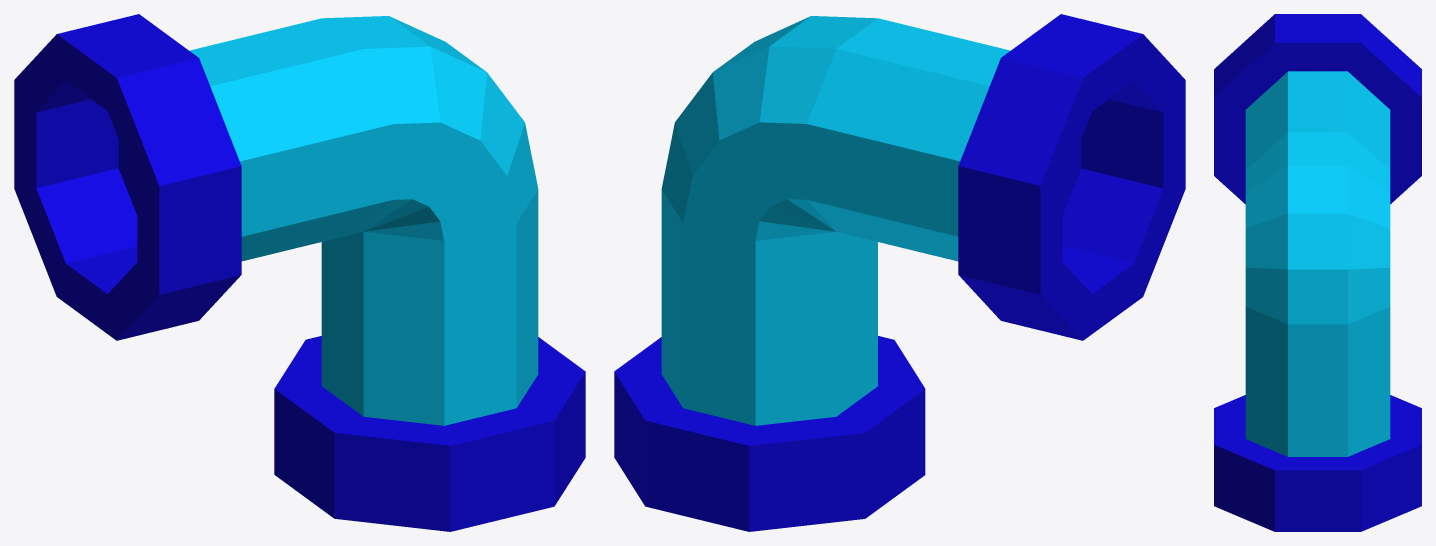
File: pipes 3.0.fbx
3 renders of one model, left to right at view 1: azimuth 30°, elevation 25°; view 2: azimuth 150°, elevation 25°; view 3: azimuth 270°, elevation 25°, orthographic. The views are drawn at different scales.
Visible parts, largest first — view 1: pipe 8; view 2: pipe 8; view 3: pipe 8.
Boxes of the visible parts, left/top/right/bottom form: pipe 8: left=14, top=14, right=585, bottom=531; pipe 8: left=614, top=14, right=1185, bottom=531; pipe 8: left=1214, top=14, right=1421, bottom=531.
Bounding box in the file's own units: 63.95 × 64.38 × 34.27.
